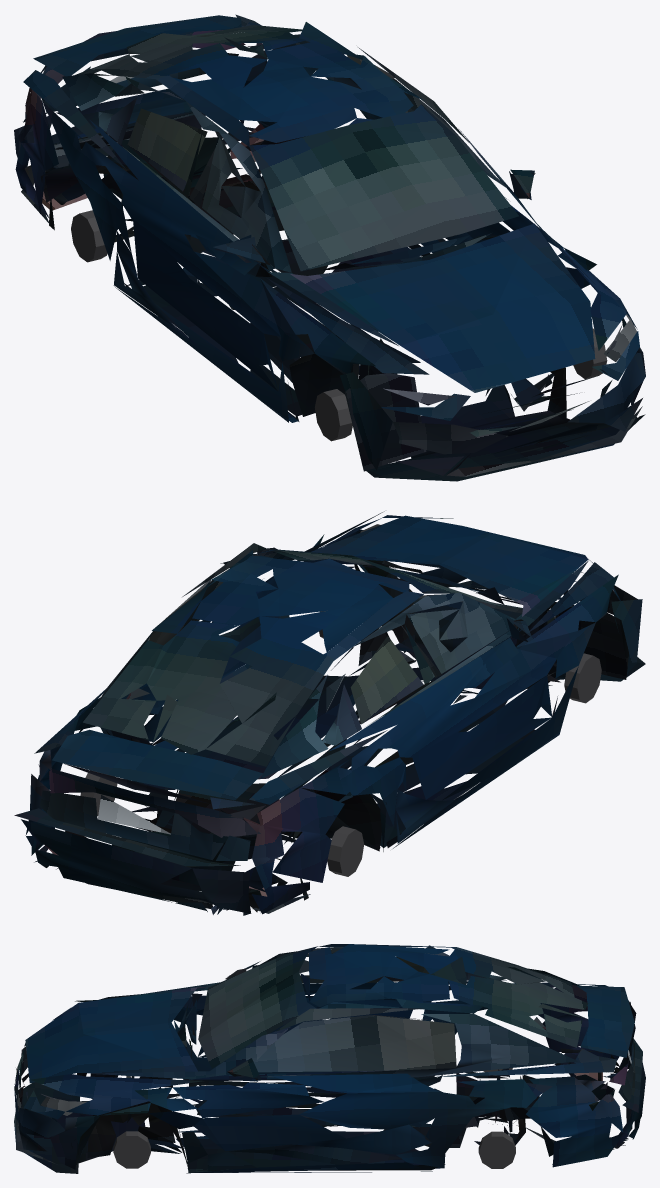
File: limousine_f.glb
3 views of the same model, one above another, from view 1: azimuth 30°, elevation 25°; view 2: azimuth 150°, elevation 25°; view 3: azimuth 270°, elevation 25° (orthographic). The views are drawn at different scales.
Parts seen in each view (by area): view 1: karosserie, rad_hl; view 2: karosserie, rad_hl; view 3: karosserie, rad_hl.
Part boxes in pixels (<box>): karosserie: <box>14,14,645,481</box>; rad_hl: <box>71,210,607,441</box>; karosserie: <box>14,511,645,915</box>; rad_hl: <box>80,610,601,876</box>; karosserie: <box>14,944,645,1173</box>; rad_hl: <box>113,1068,515,1168</box>.
Size of the model in its own units: 2.13 by 1.43 by 4.84.
2 materials, 1 textured.
